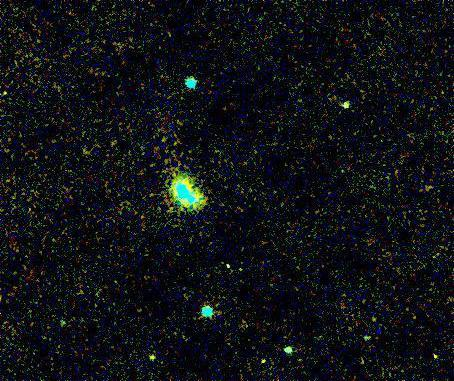star: (329, 89, 359, 119)
